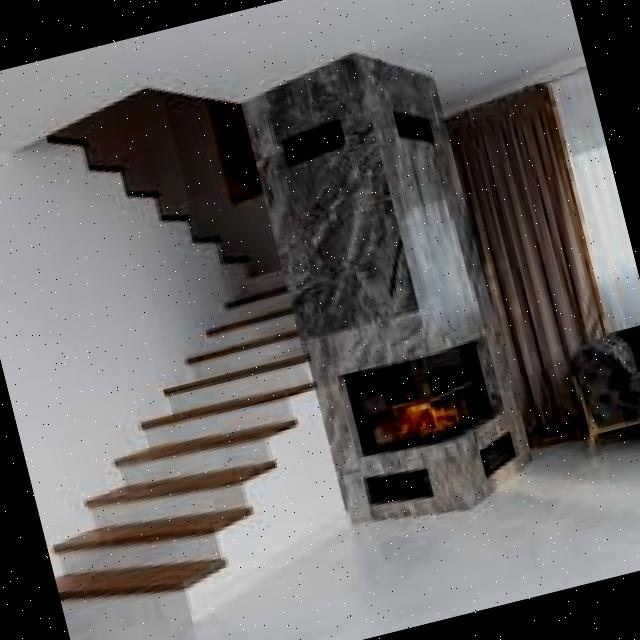stairs: (0, 263, 354, 617)
